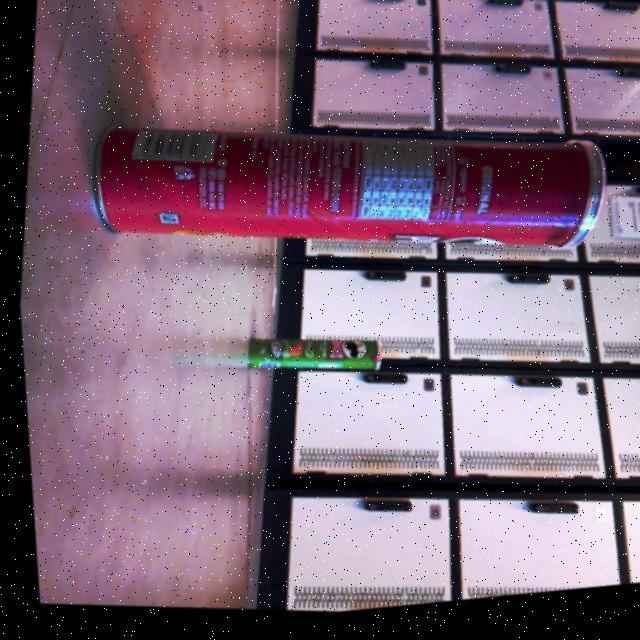greenpringles: (220, 313, 395, 406)
redpringles: (54, 60, 640, 340)
